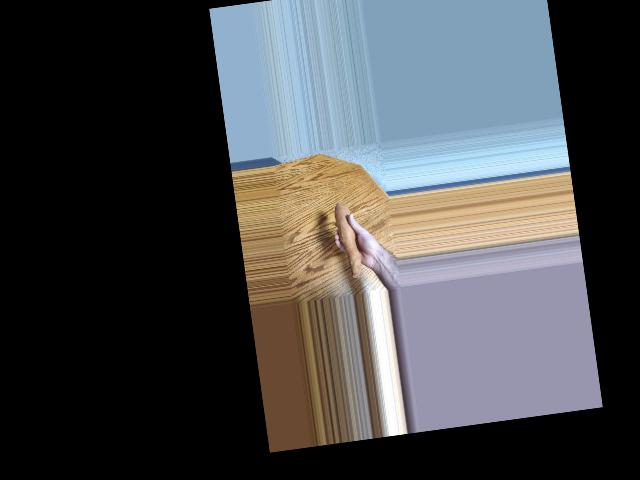sweet_potato: (330, 199, 365, 283)
